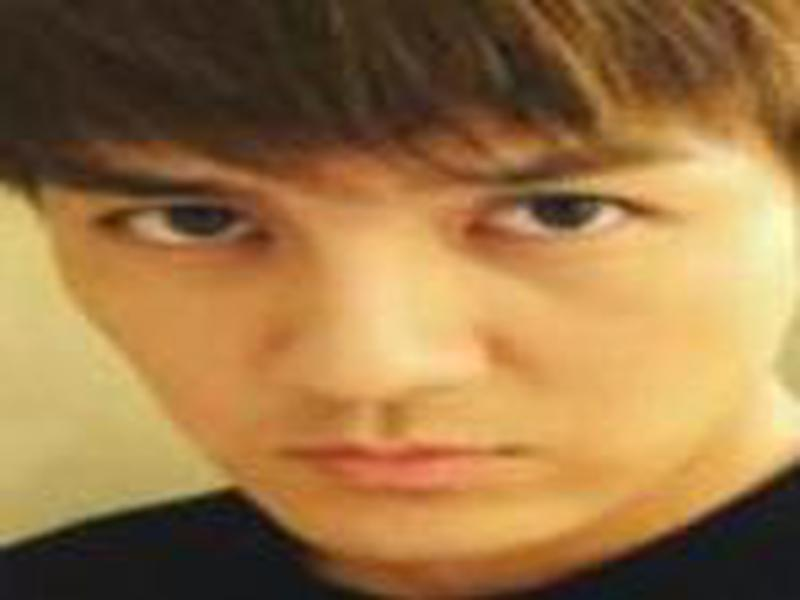without_mask: (31, 123, 795, 544)
